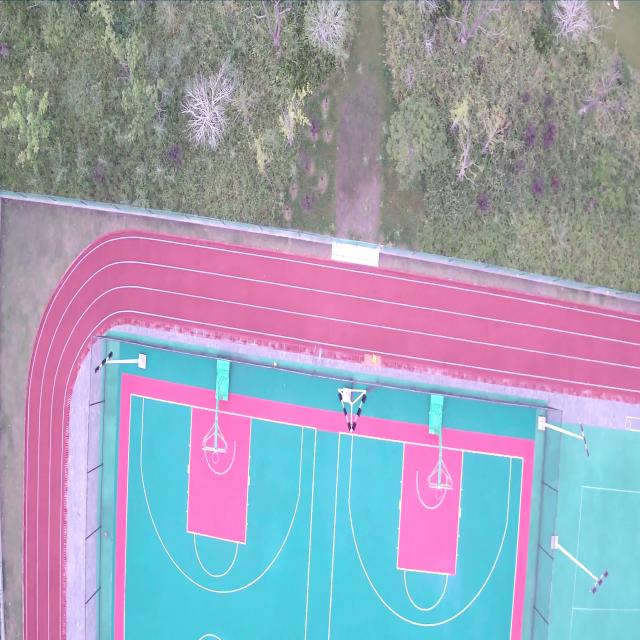UAV: (312, 343, 328, 367)
